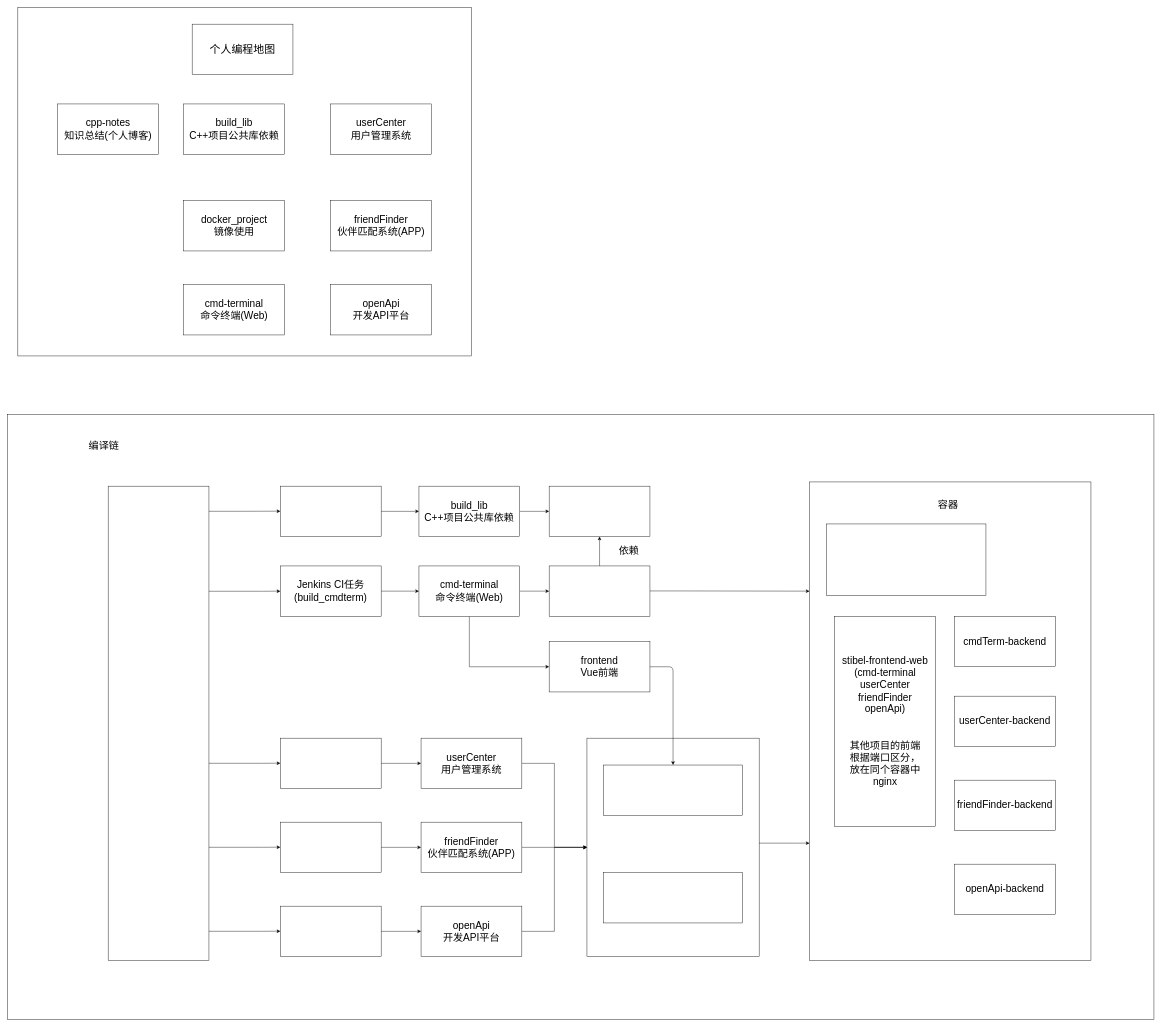
Some shapes in this 1161 by 1027 pixel diagram are drawn without their labels. The shapes that lost their labels are listed below. From the top down, each one's centre as x and y in pixels, then its label:
At point (330, 511): "Jenkins CI任务 (build_lib)".
At point (599, 511): "StiBel_V2.1.1.tar.gz".
At point (906, 559): "cpp-notes的nginx容器".
At point (599, 591): "cpp-backend drogon后端实现".
At point (158, 723): "Jenkins 流水线 (总控)".
At point (330, 763): "Jenkins CI任务 (build_userCenter)".
At point (672, 790): "前端编译成/dist文件 放置到nginx".
At point (330, 847): "Jenkins CI任务 (build_friendFinder)".
At point (672, 897): "后端编译为jar的运行包 maven:3.5-jdk-8-alpine".
At point (330, 931): "Jenkins CI任务 (build_openApi)".
